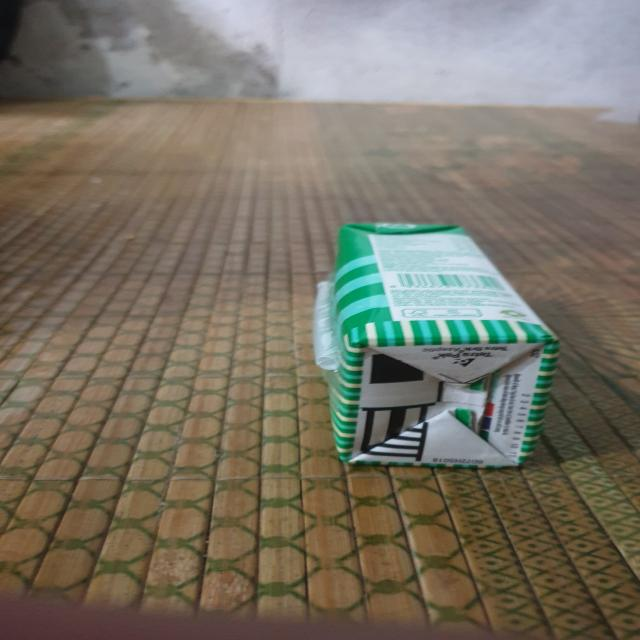Vina: (337, 223, 560, 469)
